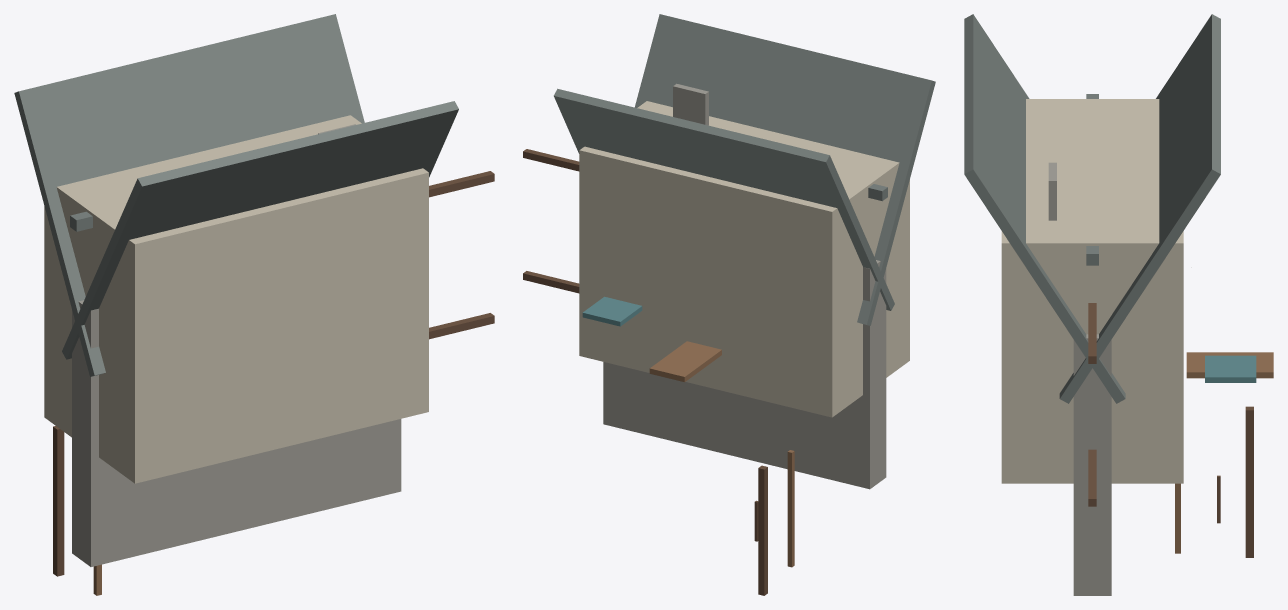
Rendered from forge.glb.
3 views of the same model, side by side, from view 1: azimuth 30°, elevation 25°; view 2: azimuth 150°, elevation 25°; view 3: azimuth 270°, elevation 25° (orthographic). The views are drawn at different scales.
Parts seen in each view (by area): view 1: body, roof_-1, foundation, roof_1, front_post, top_beam, base_beam; view 2: body, roof_1, foundation, roof_-1, door, front_post, chimney_cap, window, stud, top_beam, base_beam; view 3: body, roof_-1, roof_1, foundation, window, front_post, door, top_beam, chimney_cap, base_beam, stud.
Part boxes in pixels (<box>): body: <box>44,115,428,483</box>; roof_-1: <box>14,14,364,376</box>; foundation: <box>72,300,401,566</box>; roof_1: <box>62,101,458,359</box>; front_post: <box>53,426,64,576</box>; top_beam: <box>429,171,494,197</box>; base_beam: <box>429,313,494,339</box>; body: <box>579,101,909,417</box>; roof_1: <box>634,14,935,325</box>; foundation: <box>603,260,886,489</box>; roof_-1: <box>553,88,894,310</box>; door: <box>649,341,721,382</box>; front_post: <box>758,465,767,595</box>; chimney_cap: <box>673,83,708,125</box>; window: <box>582,296,642,326</box>; stud: <box>787,450,794,567</box>; top_beam: <box>523,149,579,171</box>; base_beam: <box>523,271,579,293</box>; body: <box>1001,99,1183,483</box>; roof_-1: <box>1059,14,1220,403</box>; roof_1: <box>964,14,1125,403</box>; foundation: <box>1073,334,1111,595</box>; window: <box>1205,355,1256,382</box>; front_post: <box>1245,406,1253,557</box>; door: <box>1186,352,1273,378</box>; top_beam: <box>1088,303,1096,363</box>; chimney_cap: <box>1048,162,1056,220</box>; base_beam: <box>1088,449,1096,506</box>; stud: <box>1175,483,1180,553</box>.
Size of the model in its own units: 12.83 by 14.95 by 8.17.
